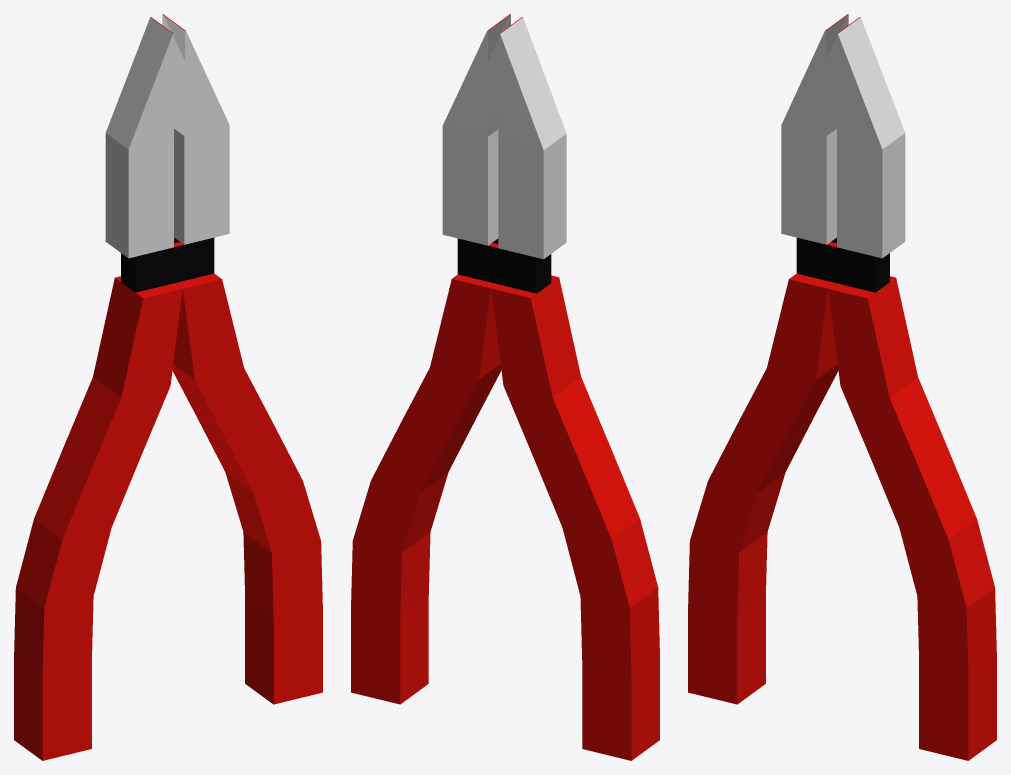
Rendered from Scissor.fbx.
3 renders of one model, left to right at view 1: azimuth 30°, elevation 25°; view 2: azimuth 150°, elevation 25°; view 3: azimuth 330°, elevation 25°, orthographic.
Visible parts, largest first — view 1: Scissor; view 2: Scissor; view 3: Scissor.
Boxes of the visible parts, x1,y1,x2,y2 form: Scissor: (14,14,322,760); Scissor: (351,14,659,760); Scissor: (688,14,996,760).
Size of the model in its own units: 139 by 329 by 24.49.
